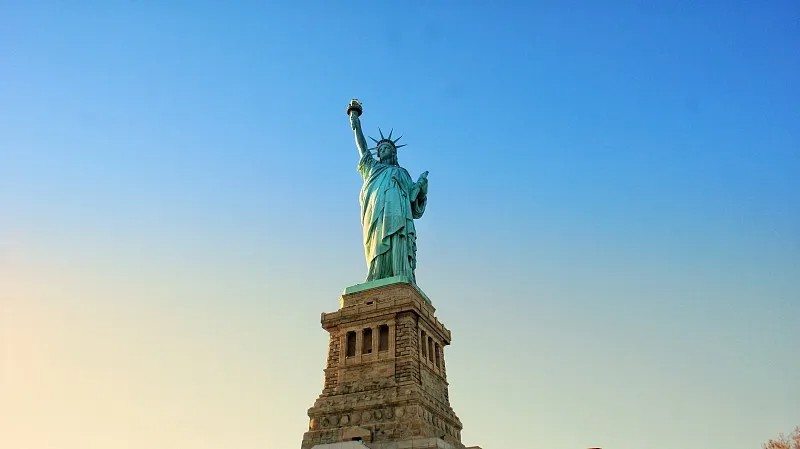SL: (300, 98, 465, 449)
